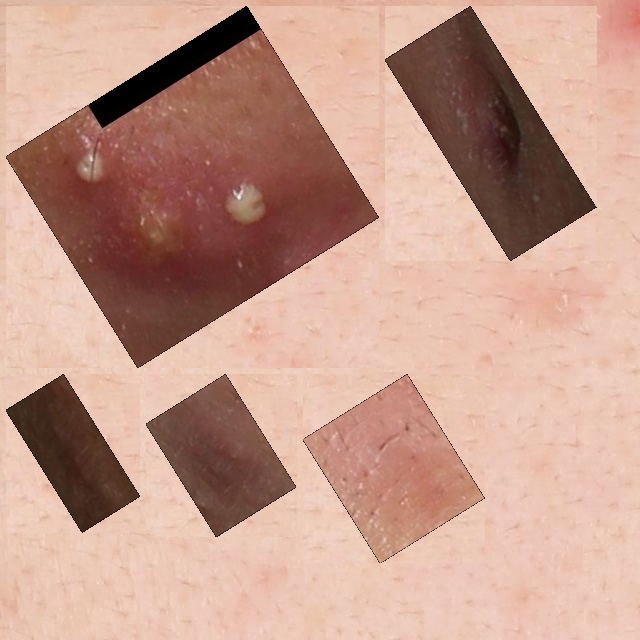nodule: (17, 17, 368, 357), (396, 17, 585, 249), (314, 385, 474, 552), (157, 385, 285, 526), (17, 385, 129, 521)
